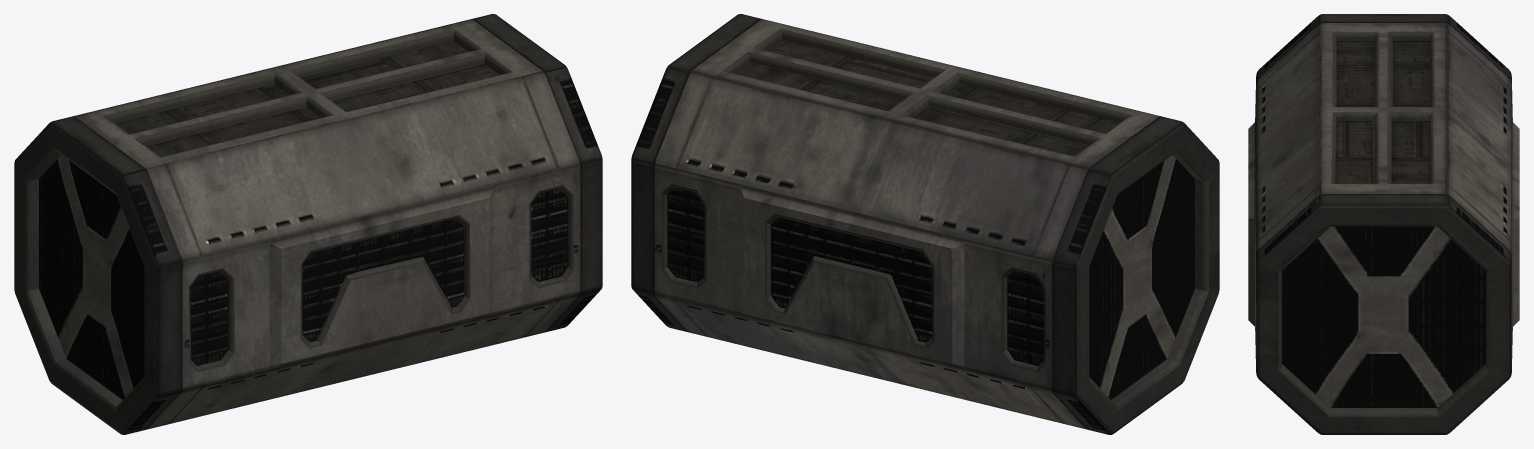
File: machinery_1.obj
3 views of the same model, side by side, from view 1: azimuth 30°, elevation 25°; view 2: azimuth 150°, elevation 25°; view 3: azimuth 270°, elevation 25° (orthographic). The views are drawn at different scales.
Parts seen in each view (by area): view 1: machinery_1; view 2: machinery_1; view 3: machinery_1.
Boxes of the visible parts, x1,y1,x2,y2 form: machinery_1: (14,14,602,434); machinery_1: (631,14,1219,434); machinery_1: (1248,14,1519,434).
Bounding box in the file's own units: 1.14 × 0.64 × 0.68.
